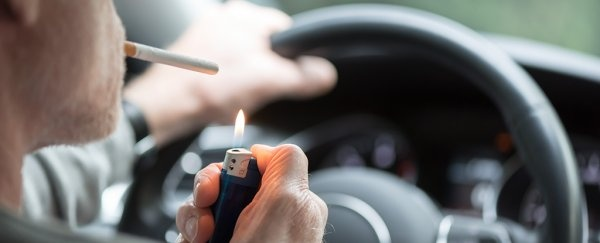sigaretta: (110, 37, 228, 83)
